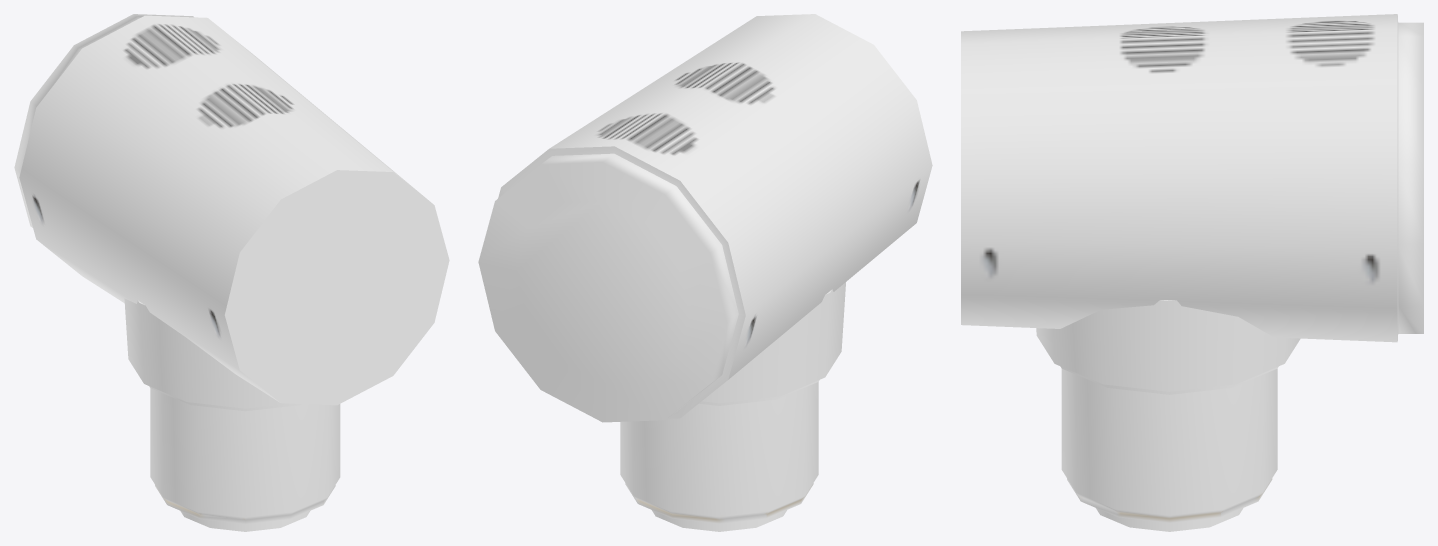
The model's file is link_torso.3obj.obj.glb.
The picture shows the model from 3 angles, left to right: view 1: azimuth 30°, elevation 25°; view 2: azimuth 150°, elevation 25°; view 3: azimuth 270°, elevation 25°; orthographic projection. The views are drawn at different scales.
Parts seen in each view (by area): view 1: link_torso.3obj.obj; view 2: link_torso.3obj.obj; view 3: link_torso.3obj.obj.
Part boxes in pixels (<box>): link_torso.3obj.obj: <box>14,14,449,531</box>; link_torso.3obj.obj: <box>478,14,932,531</box>; link_torso.3obj.obj: <box>961,14,1423,531</box>.
Bounding box in the file's own units: 0.1566 × 0.2459 × 0.2198.
Materials: 1 (1 with a texture image).
